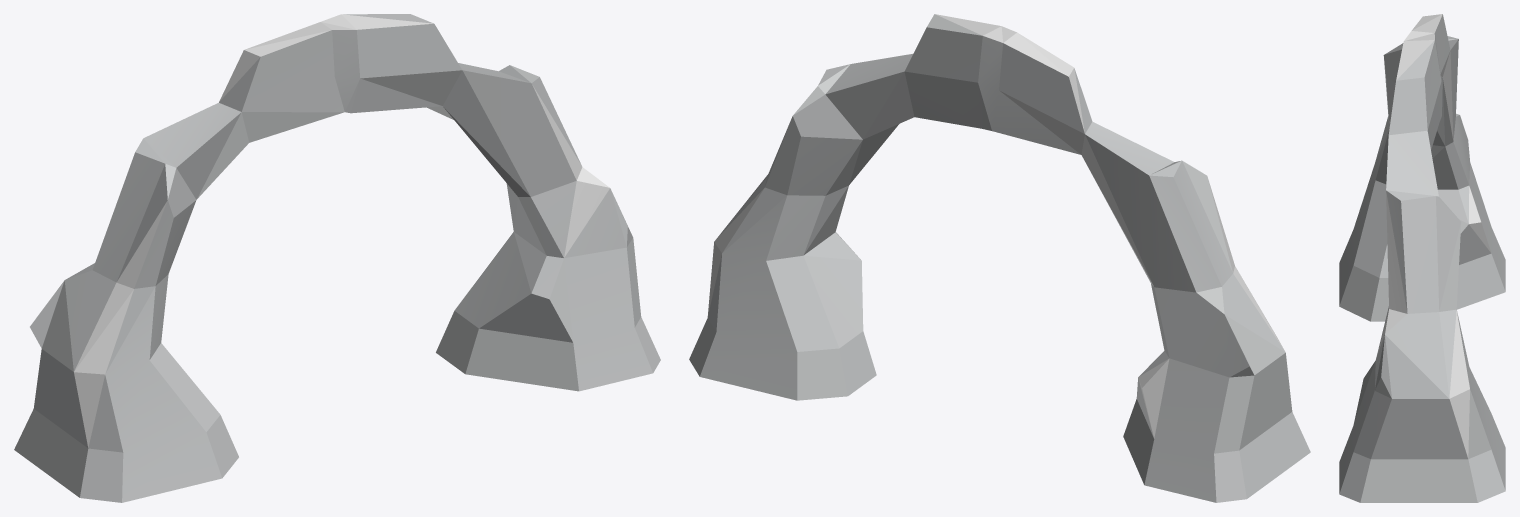
File: stone_4.fbx
3 views of the same model, side by side, from view 1: azimuth 30°, elevation 25°; view 2: azimuth 150°, elevation 25°; view 3: azimuth 270°, elevation 25° (orthographic). The views are drawn at different scales.
Parts seen in each view (by area): view 1: stone_4; view 2: stone_4; view 3: stone_4.
Boxes of the visible parts, left/top/right/bottom form: stone_4: left=14, top=14, right=660, bottom=502; stone_4: left=689, top=14, right=1310, bottom=502; stone_4: left=1339, top=14, right=1505, bottom=502.
Bounding box in the file's own units: 584 × 370 × 163.
